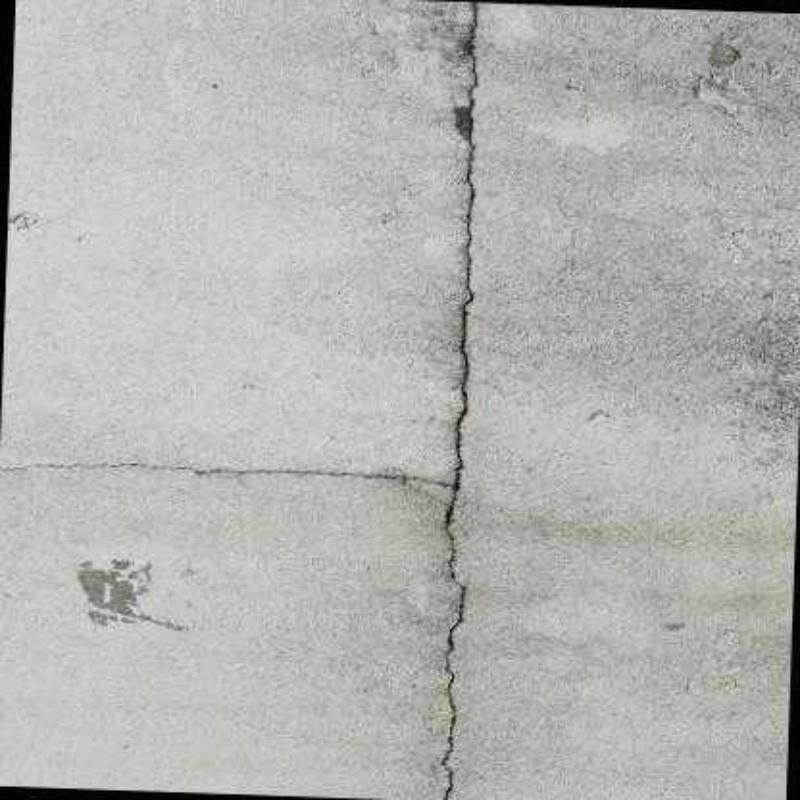crack: (443, 2, 478, 798), (0, 463, 449, 486)
